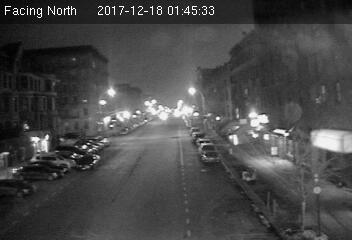car: (75, 152, 101, 173), (198, 150, 221, 164)
